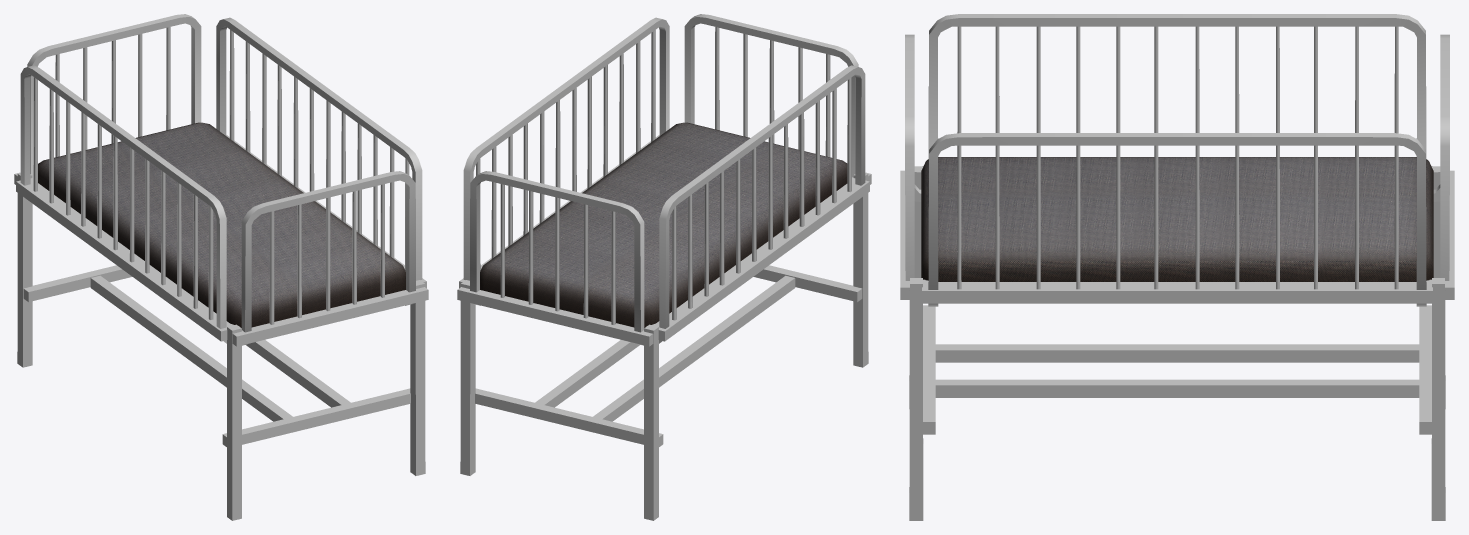
The model's file is bed_C.fbx.
3 renders of one model, left to right at view 1: azimuth 30°, elevation 25°; view 2: azimuth 150°, elevation 25°; view 3: azimuth 270°, elevation 25°, orthographic. The views are drawn at different scales.
Parts seen in each view (by area): view 1: bed_C; view 2: bed_C; view 3: bed_C.
Boxes of the visible parts, left/top/right/bottom form: bed_C: left=14, top=14, right=428, bottom=520; bed_C: left=457, top=14, right=871, bottom=520; bed_C: left=900, top=14, right=1454, bottom=520.
Size of what is drawn, in the model's own units: 73.01 by 105 by 137.
